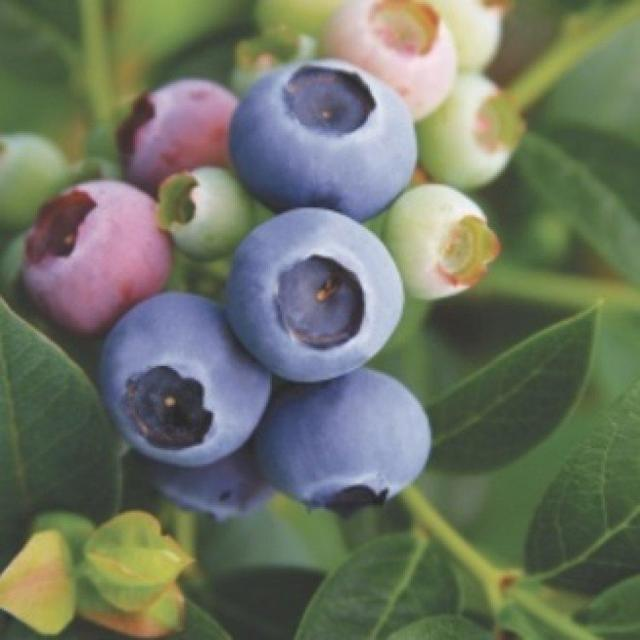BlueBerry - v1: (216, 50, 428, 225), (210, 203, 414, 381), (98, 286, 281, 472), (242, 350, 442, 514), (0, 170, 187, 332), (310, 0, 470, 125), (111, 70, 263, 192), (384, 170, 510, 308), (412, 66, 536, 198), (144, 141, 266, 263), (422, 0, 522, 76)
